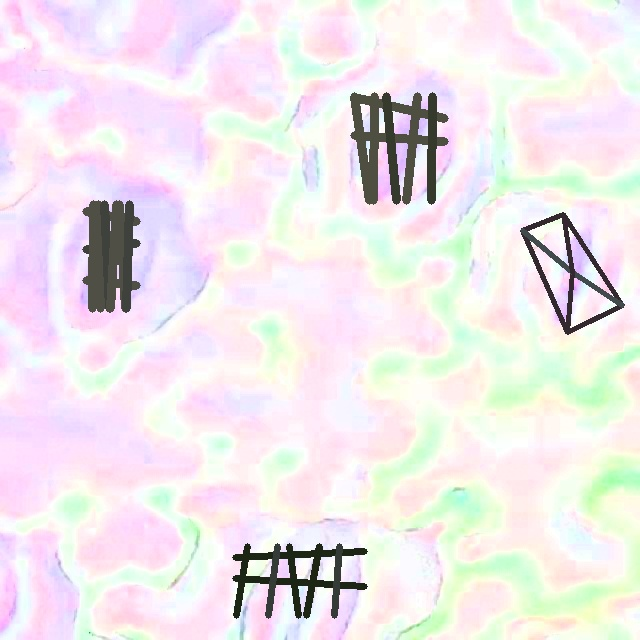open: (521, 212, 624, 333), (351, 92, 448, 203), (232, 543, 367, 618), (83, 201, 139, 311)
